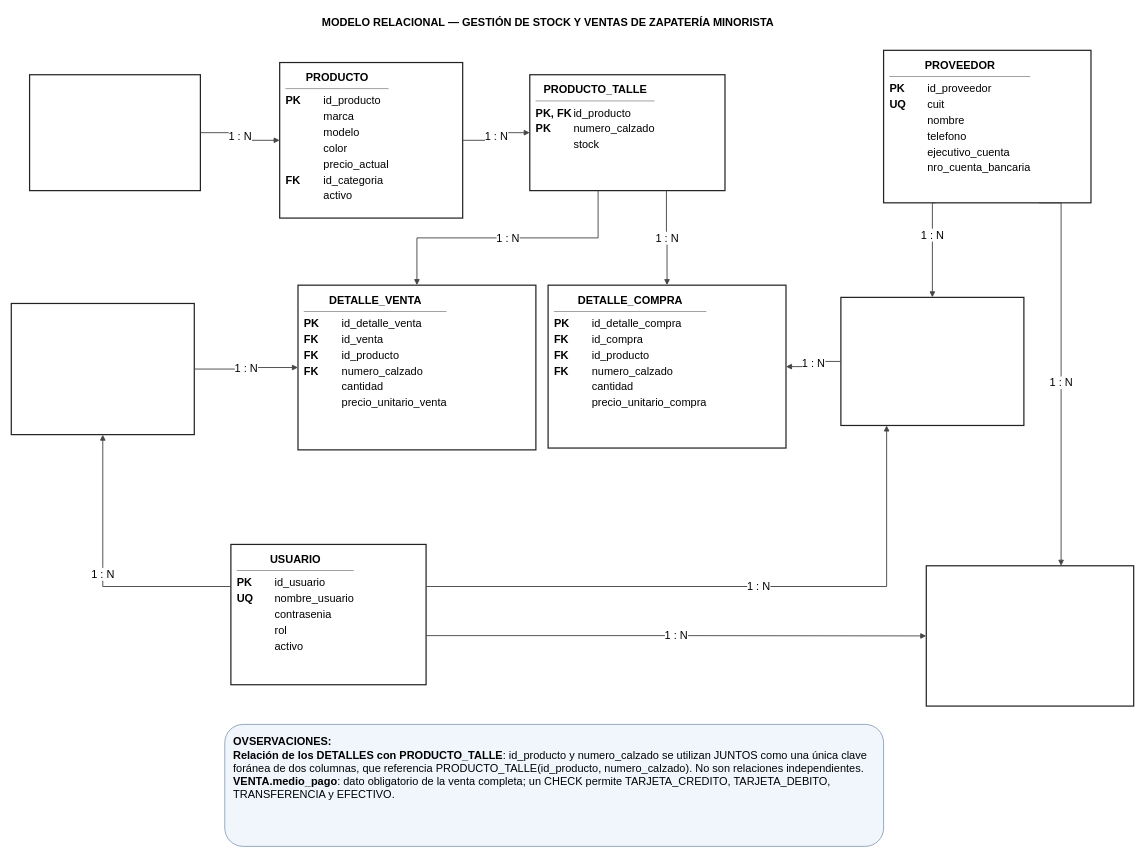
The diagram is 1144 pixels wide and 857 high, and some of its shapes have lost their labels. The centre of each missing label's shape, as x and y in pixels:
"CATEGORIA PK id_categoria nombre descripcion activa" goes at (x=115, y=132).
"COMPRA PK id_compra fecha nro_comprobante FK id_proveedor FK id_usuario" goes at (x=932, y=361).
"PAGO_PROVEEDOR PK id_pago fecha monto medio_pago FK id_proveedor FK id_usuario" goes at (x=1029, y=635).
"VENTA PK id_venta fecha descuento FK id_usuario medio_pago" goes at (x=102, y=369).
